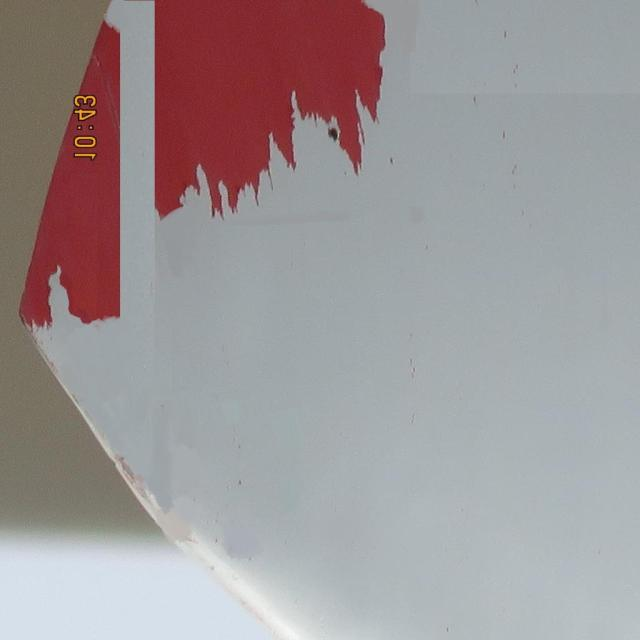corrosion: (20, 22, 129, 332)
surface_peeling: (144, 2, 390, 223)
